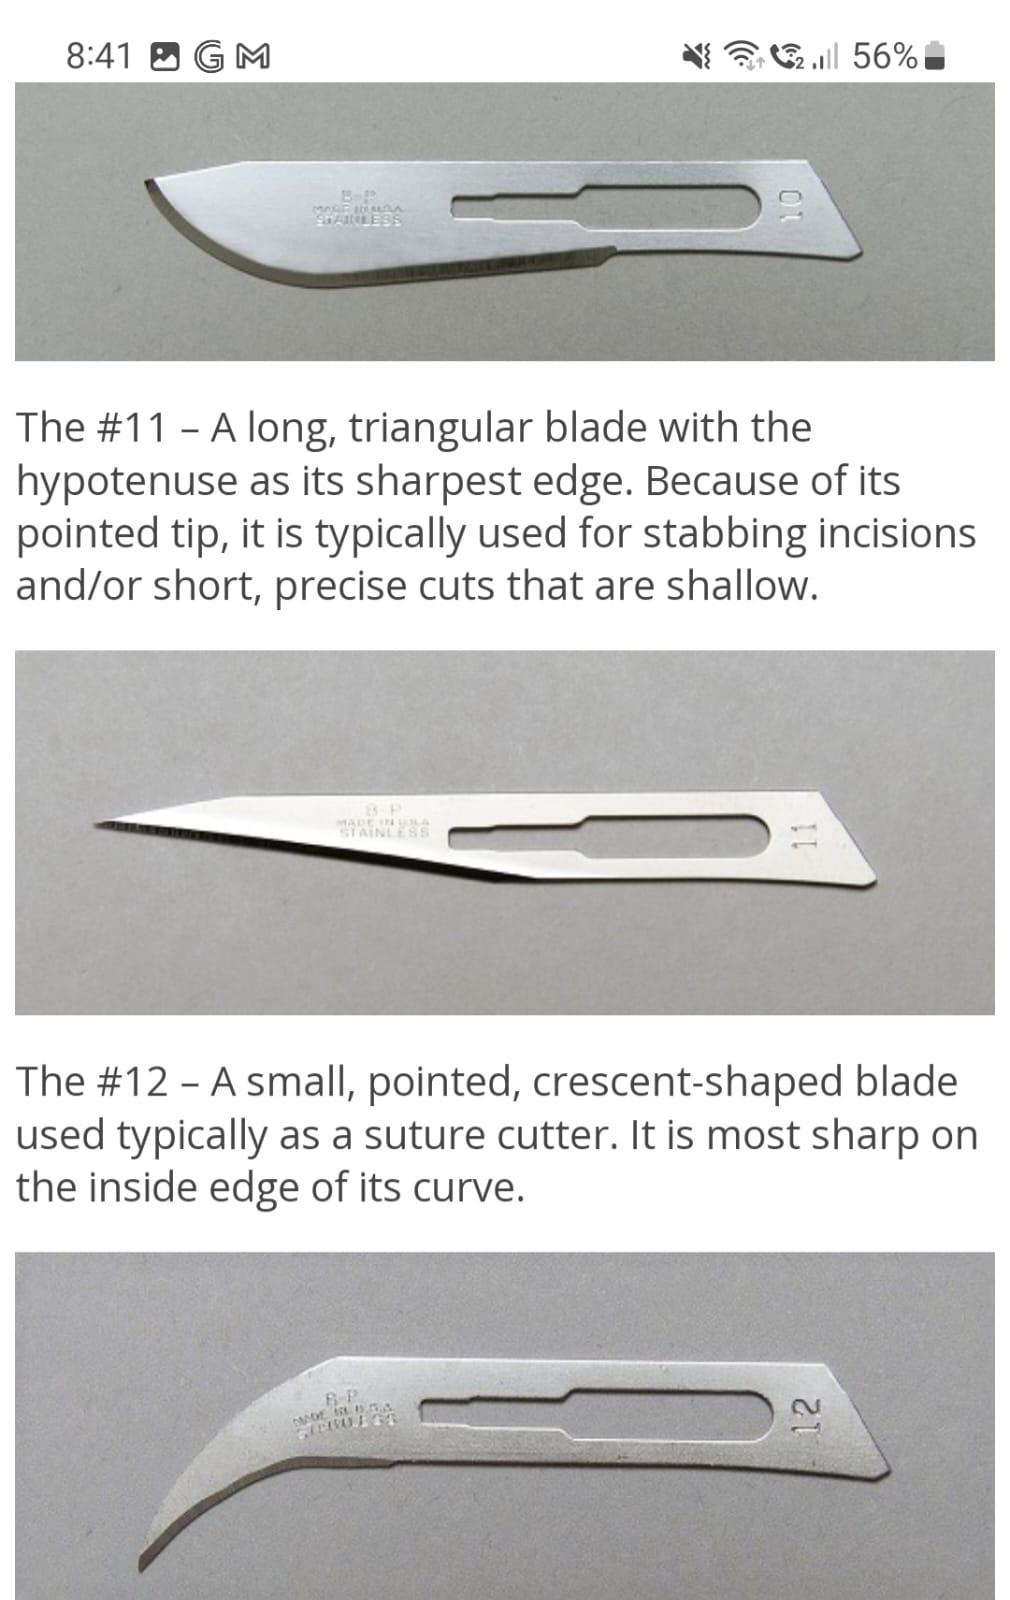Surgical blade: (105, 1325, 899, 1583), (87, 745, 899, 923), (118, 133, 880, 298)
